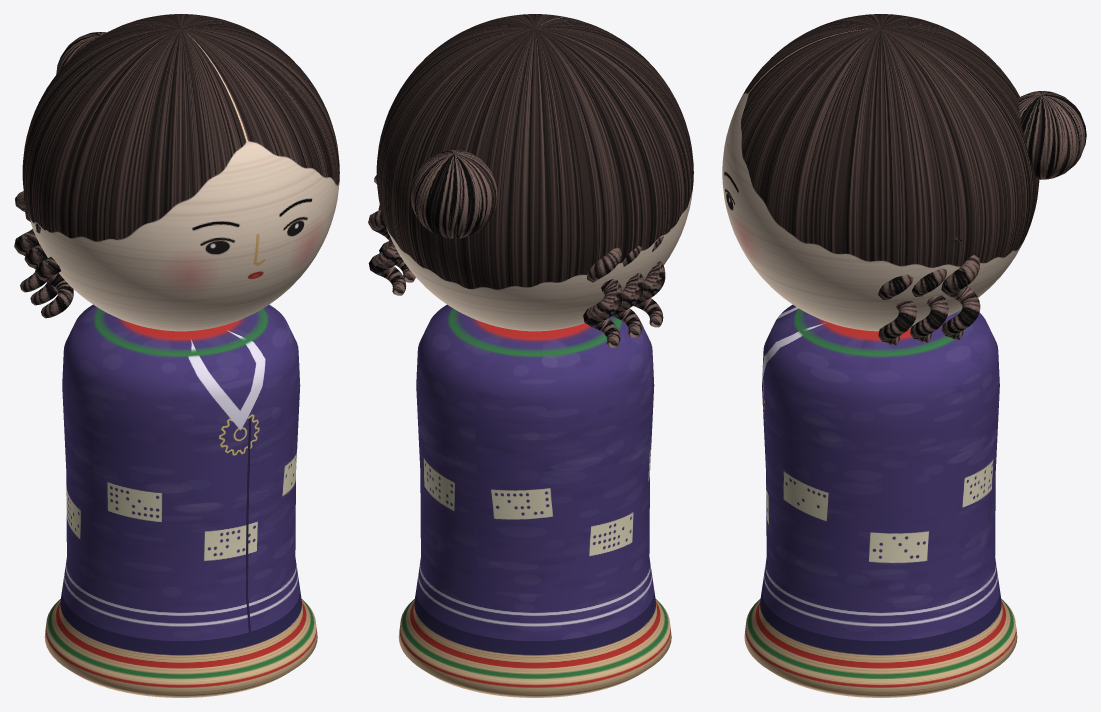
The model's file is lovelace.glb.
3 views of the same model, side by side, from view 1: azimuth 30°, elevation 25°; view 2: azimuth 150°, elevation 25°; view 3: azimuth 270°, elevation 25° (orthographic).
Visible parts, largest first — view 1: body, head, Ada Lovelace; view 2: body, head, Ada Lovelace; view 3: body, head, Ada Lovelace.
Boxes of the visible parts, x1=… form: body: x1=44, y1=304, x2=317, y2=697; head: x1=22, y1=14, x2=339, y2=331; Ada Lovelace: x1=14, y1=32, x2=106, y2=318; body: x1=398, y1=304, x2=671, y2=697; head: x1=376, y1=14, x2=693, y2=331; Ada Lovelace: x1=368, y1=150, x2=665, y2=347; body: x1=744, y1=304, x2=1017, y2=697; head: x1=722, y1=14, x2=1039, y2=331; Ada Lovelace: x1=878, y1=91, x2=1086, y2=345.
Size of the model in its own units: 0.075 by 0.1605 by 0.0862.
4 materials, 3 textured.
